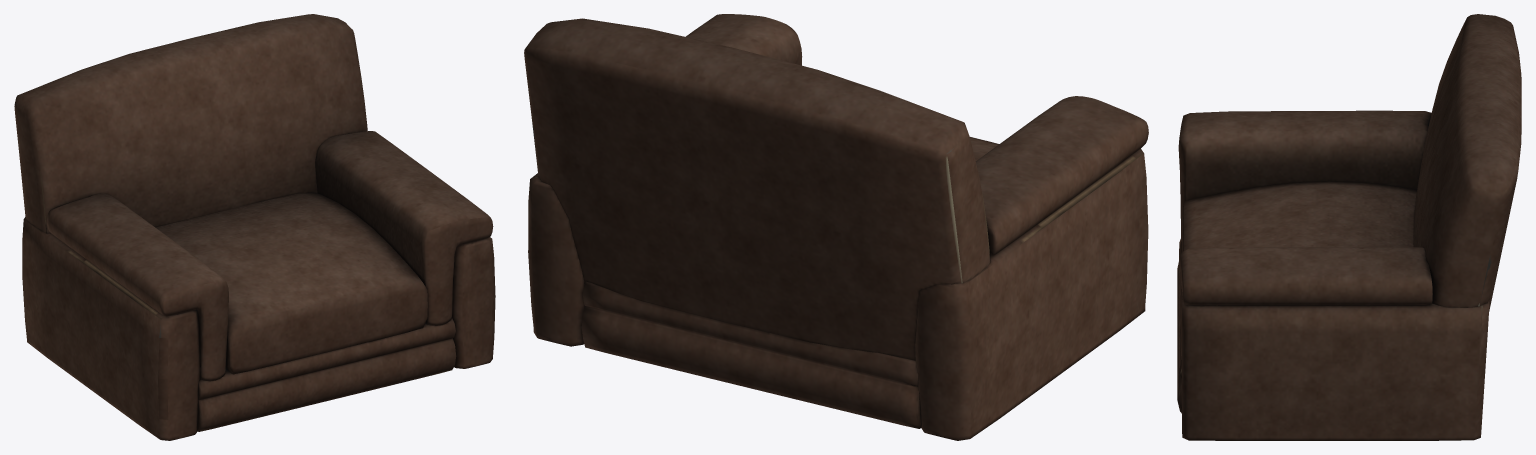
Rendered from Austin_Accent_chair_1.fbx.
3 views of the same model, side by side, from view 1: azimuth 30°, elevation 25°; view 2: azimuth 150°, elevation 25°; view 3: azimuth 270°, elevation 25° (orthographic). The views are drawn at different scales.
Visible parts, largest first — view 1: Austin_Accent_chair1; view 2: Austin_Accent_chair1; view 3: Austin_Accent_chair1.
Part boxes in pixels (x1,y1,x2,y2): Austin_Accent_chair1: [14, 14, 495, 440]; Austin_Accent_chair1: [524, 14, 1148, 440]; Austin_Accent_chair1: [1177, 14, 1521, 440].
Size of the model in its own units: 1.41 by 1.01 by 1.16.
